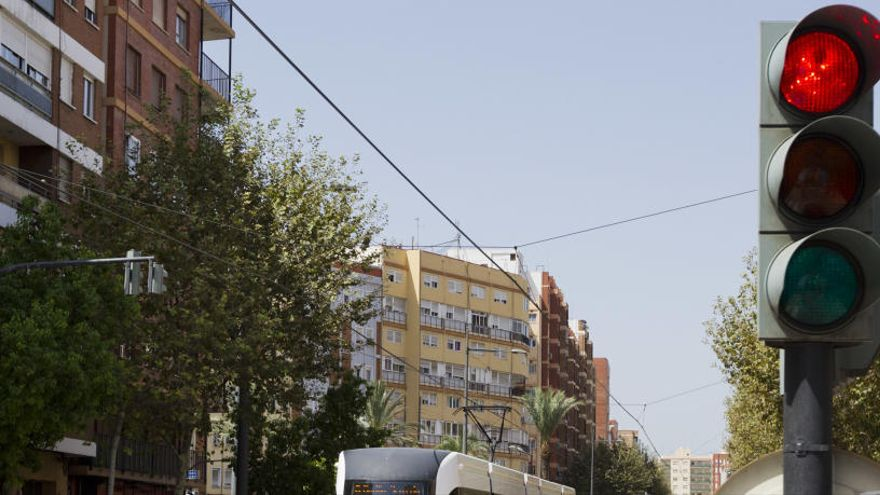Arbol: (5, 150, 337, 482), (726, 261, 880, 468)
Poste: (777, 338, 836, 495)
Semaforo: (759, 15, 871, 351)
